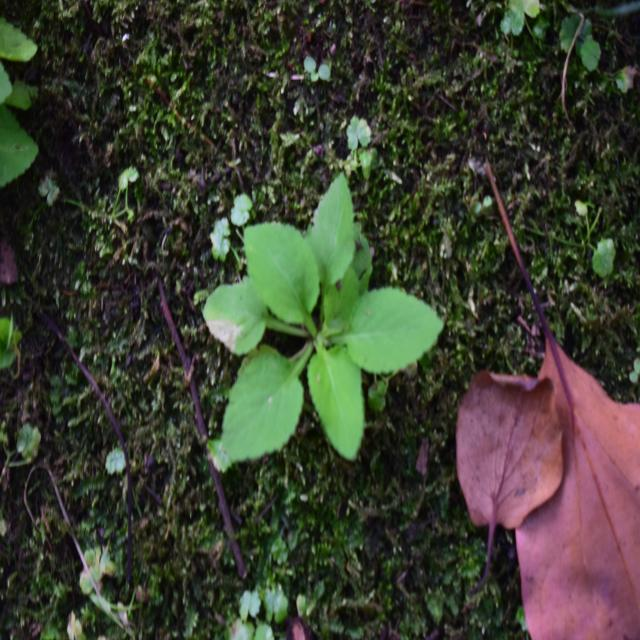Viola: (196, 170, 423, 464)
